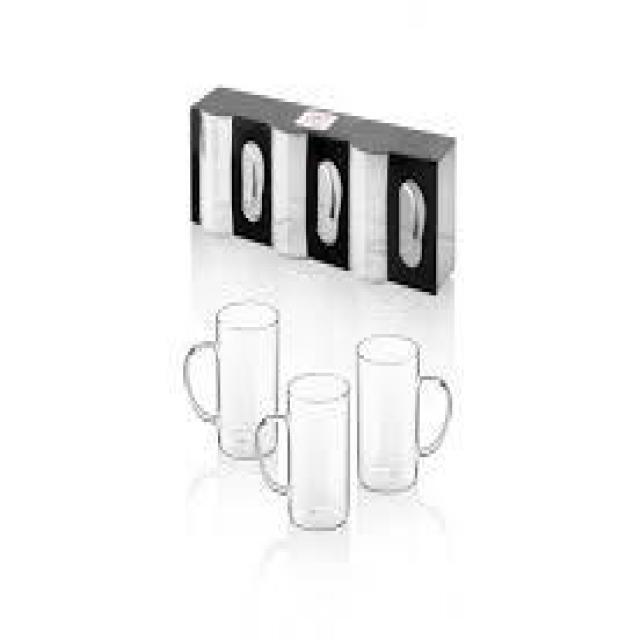non-organic waste: (249, 367, 354, 533)
